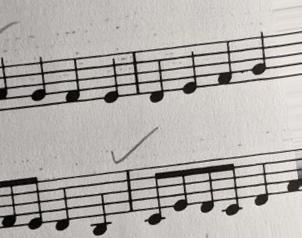D: (146, 44, 167, 106), (52, 173, 73, 234), (251, 151, 272, 209)
E: (97, 51, 122, 106), (181, 42, 199, 97)
F: (61, 56, 82, 106), (215, 35, 234, 89)
G: (29, 53, 49, 108), (251, 28, 269, 85)
